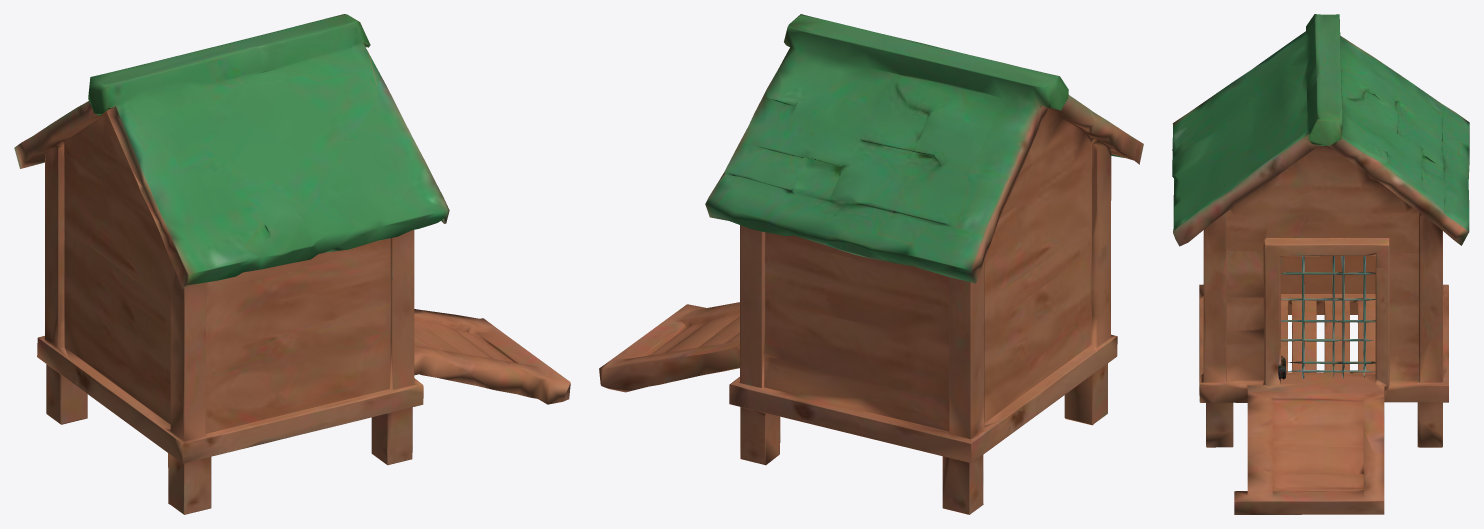
Rendered from coop.glb.
3 views of the same model, side by side, from view 1: azimuth 30°, elevation 25°; view 2: azimuth 150°, elevation 25°; view 3: azimuth 270°, elevation 25° (orthographic). The views are drawn at different scales.
Visible parts, largest first — view 1: CoopBody; view 2: CoopBody; view 3: CoopBody.
Boxes of the visible parts, bbox=[...] form: CoopBody: bbox=[14, 14, 570, 514]; CoopBody: bbox=[599, 14, 1143, 514]; CoopBody: bbox=[1172, 14, 1469, 514].
Bounding box in the file's own units: 3 × 2.61 × 2.12.
Materials: 1 (1 with a texture image).
